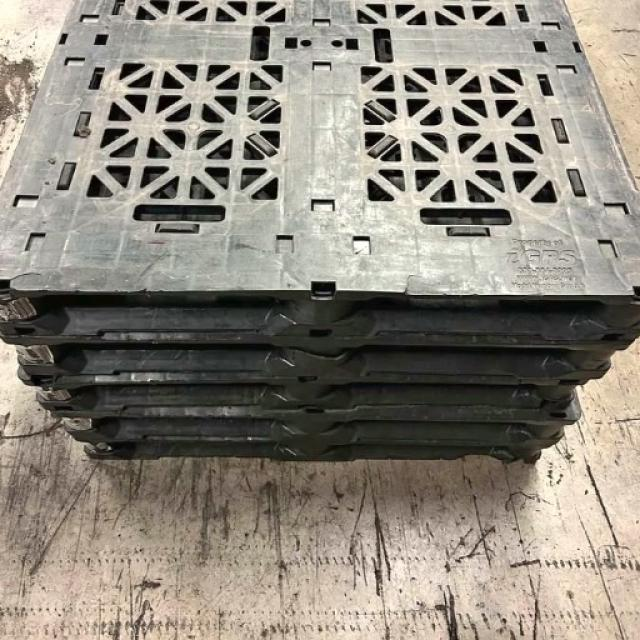igps: (0, 0, 639, 358), (0, 336, 635, 380), (48, 412, 586, 451), (16, 379, 591, 414), (80, 437, 545, 469)
